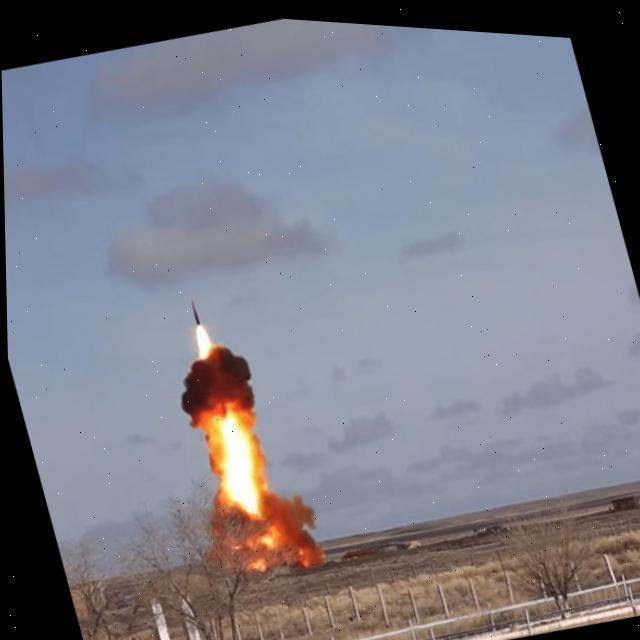missile: (186, 295, 204, 326)
